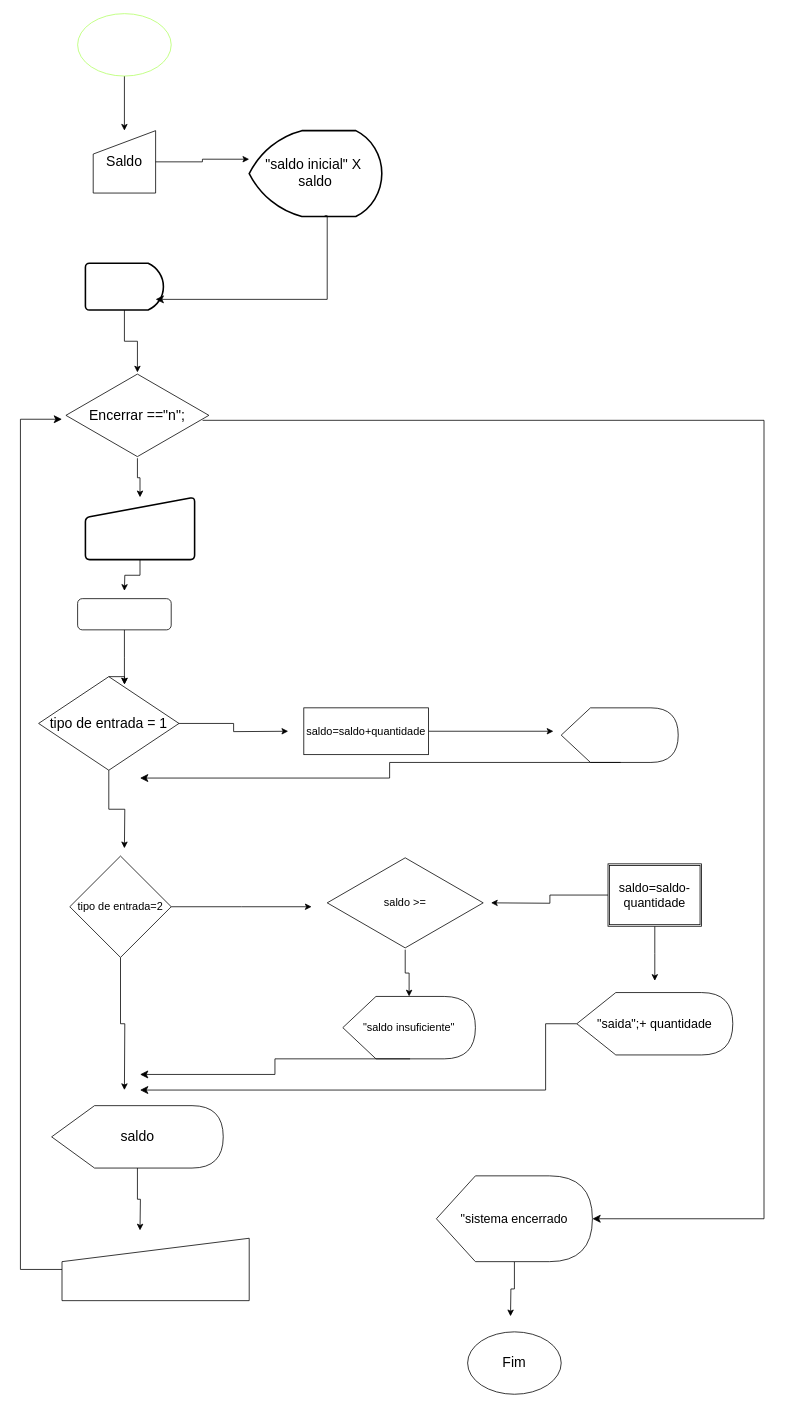
This 786x1408 diagram has some shape labels left out. Each missing label, with the box of its shape:
"entrada"+quantidade: (560, 707, 678, 762)
Encerarr ? (s/n): (61, 1237, 249, 1301)
encerrar = 'n': (84, 262, 164, 310)
inicio: (77, 13, 171, 76)
quantidade: (77, 598, 171, 630)
tipos de entrada: (84, 496, 195, 560)
